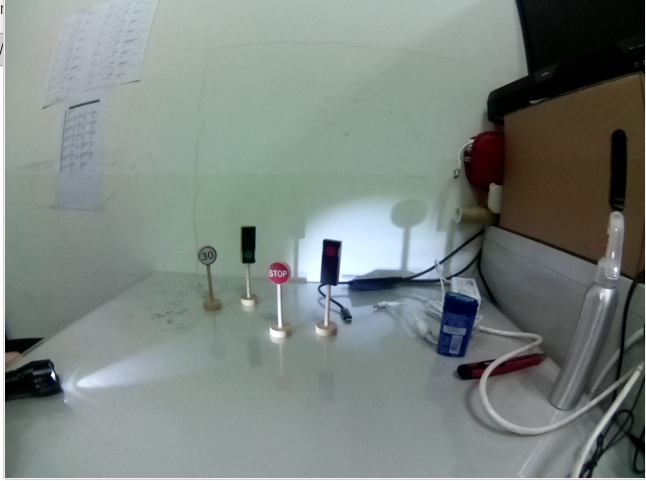Green: (237, 223, 259, 270)
Red: (318, 236, 342, 293)
Speed30: (197, 244, 219, 269)
Stop: (265, 259, 294, 287)
